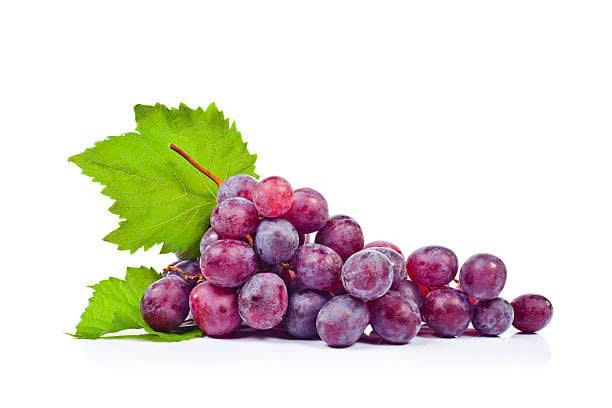grape: (143, 165, 556, 347)
